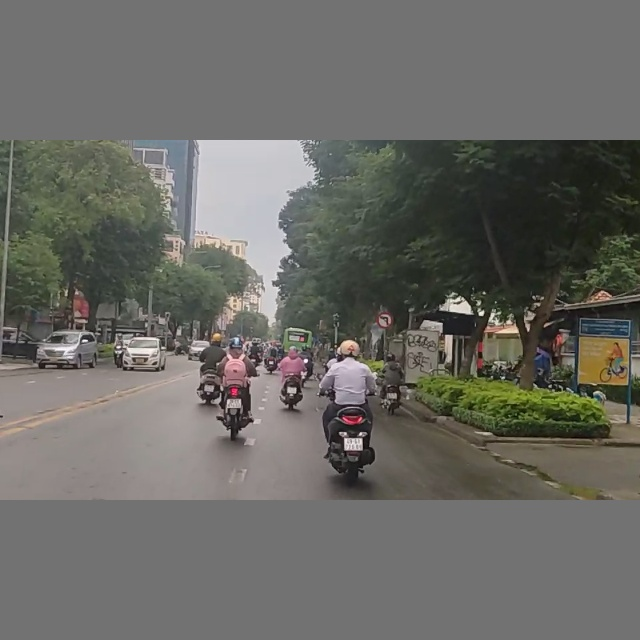P.123a: (375, 311, 394, 329)
